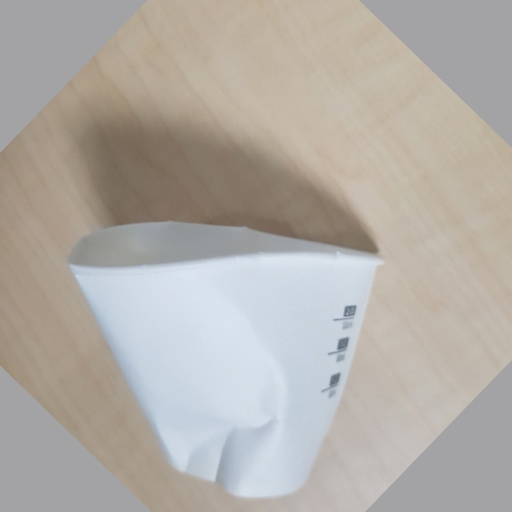Paper_1: (64, 218, 380, 499)
